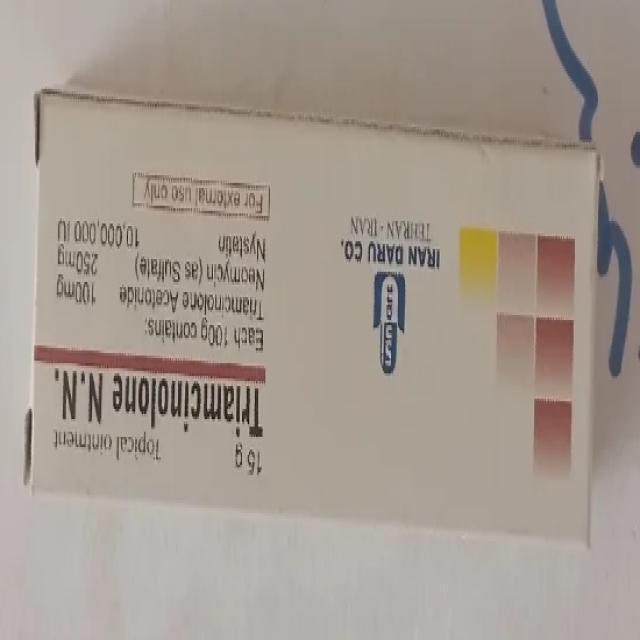drug-name: (45, 366, 266, 440)
